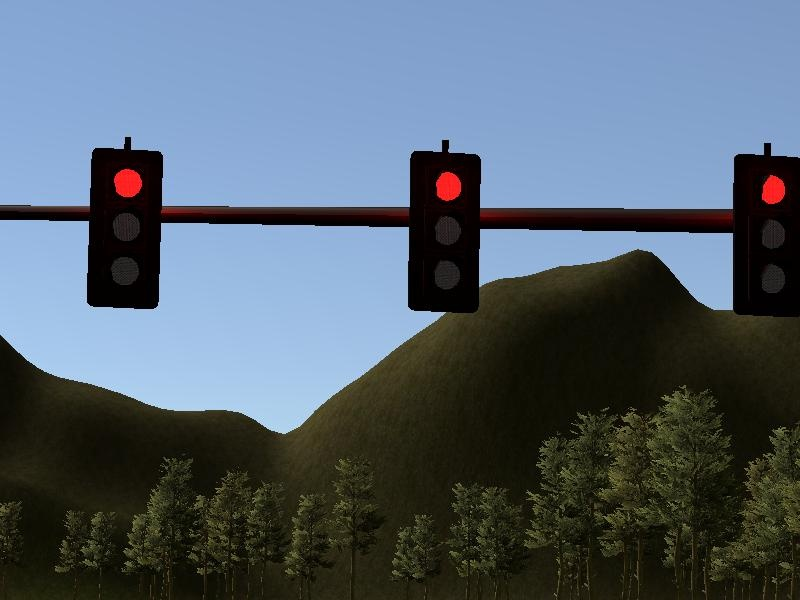Red: (82, 141, 164, 314), (403, 149, 483, 320), (727, 148, 800, 321)
